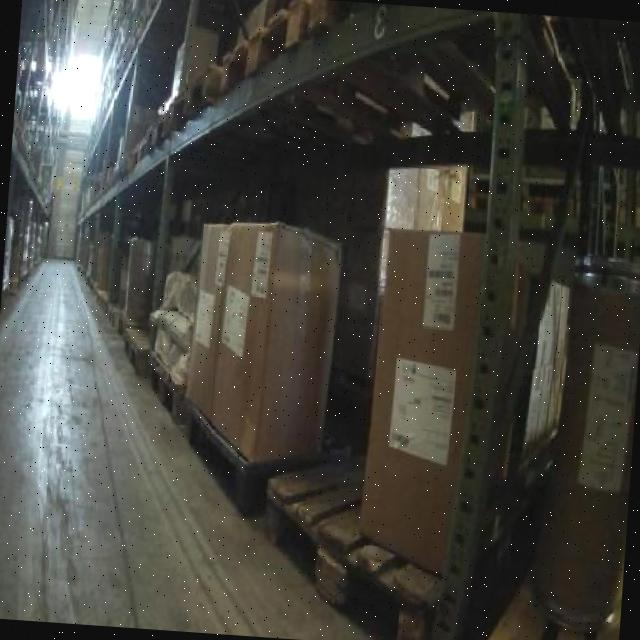pallet: (250, 465, 452, 640), (142, 338, 191, 431), (120, 317, 160, 390)
